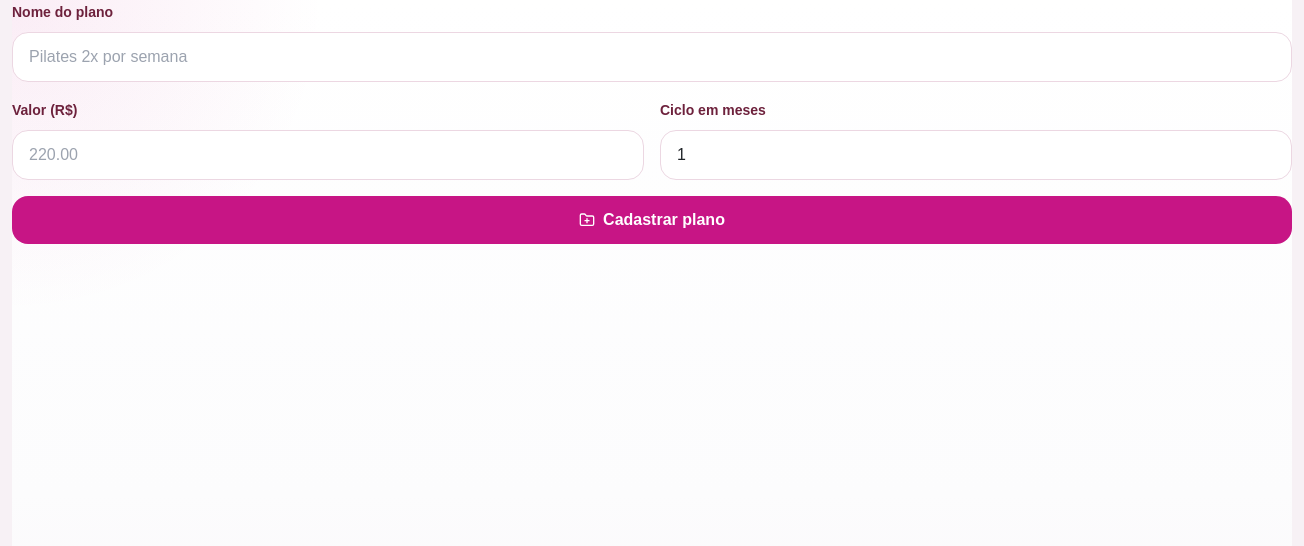
Test: CreatePlanForm › protege contra duplo clique durante submissão concorrente
Step 1. Type "Plano Prata" into the field labelled "Nome do plano" → (652, 57), box [12,32,1292,82]
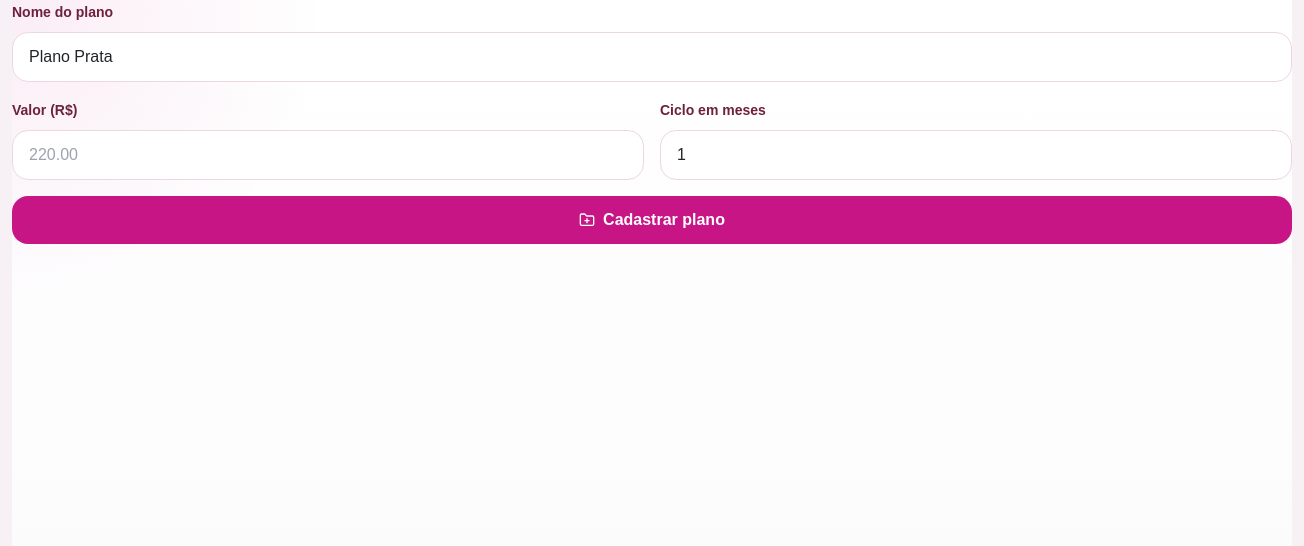
Step 2. Type "280.00" into the number field labelled "Valor (R$)" → (328, 155), box [12,130,644,180]
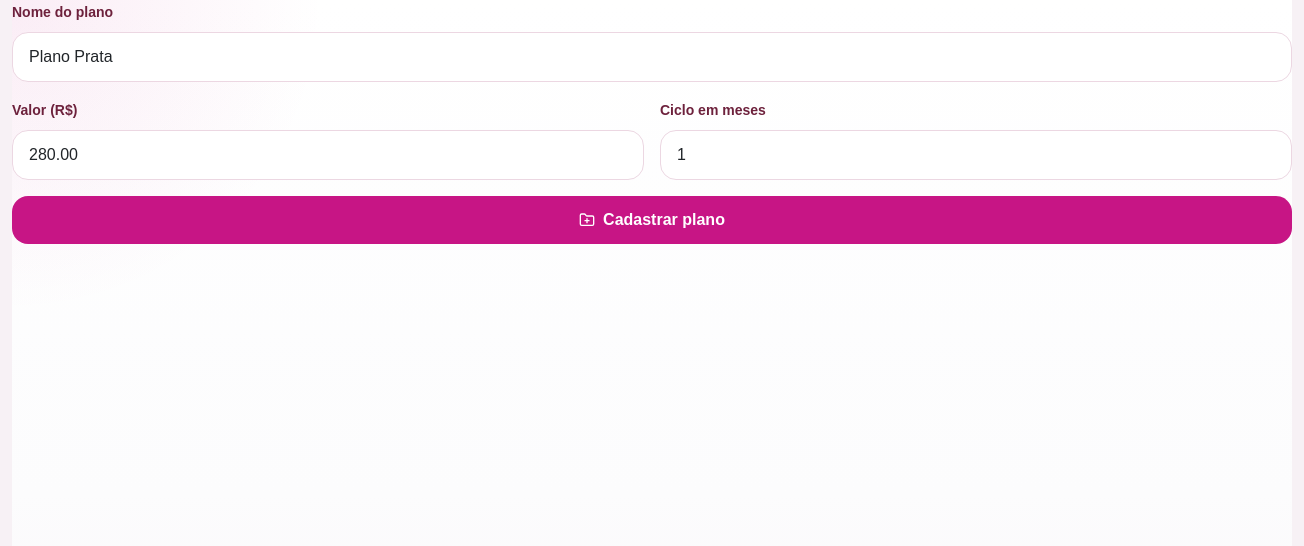
Step 3. Submit the form "Cadastrar plano", box [12,0,1292,244]
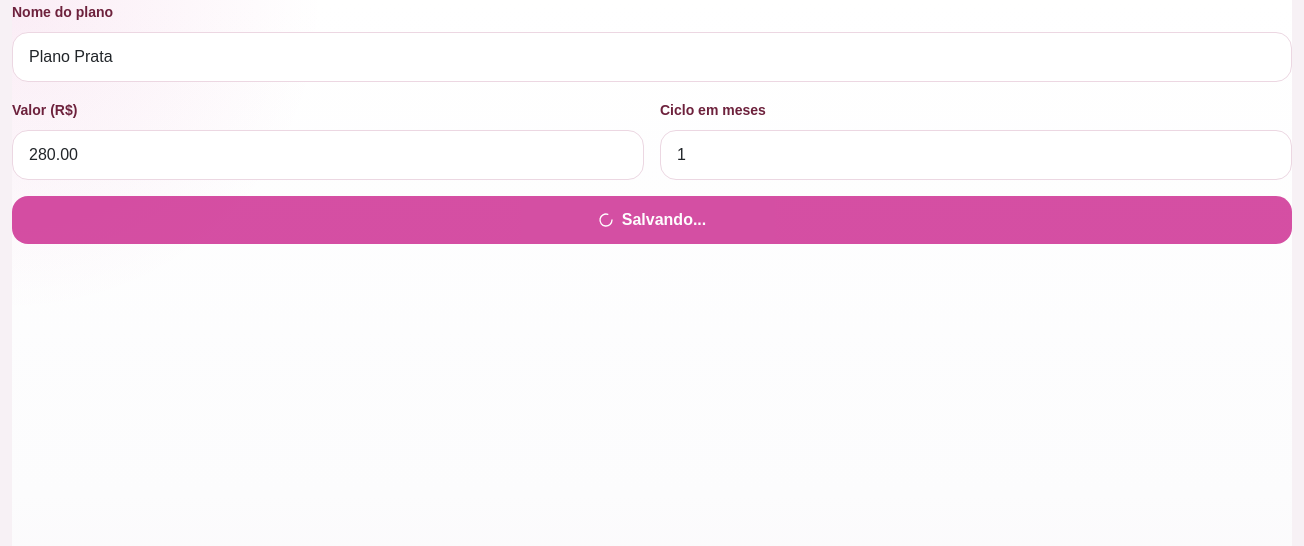
Step 4. Submit the form named "Cadastrar plano", box [12,0,1292,244]
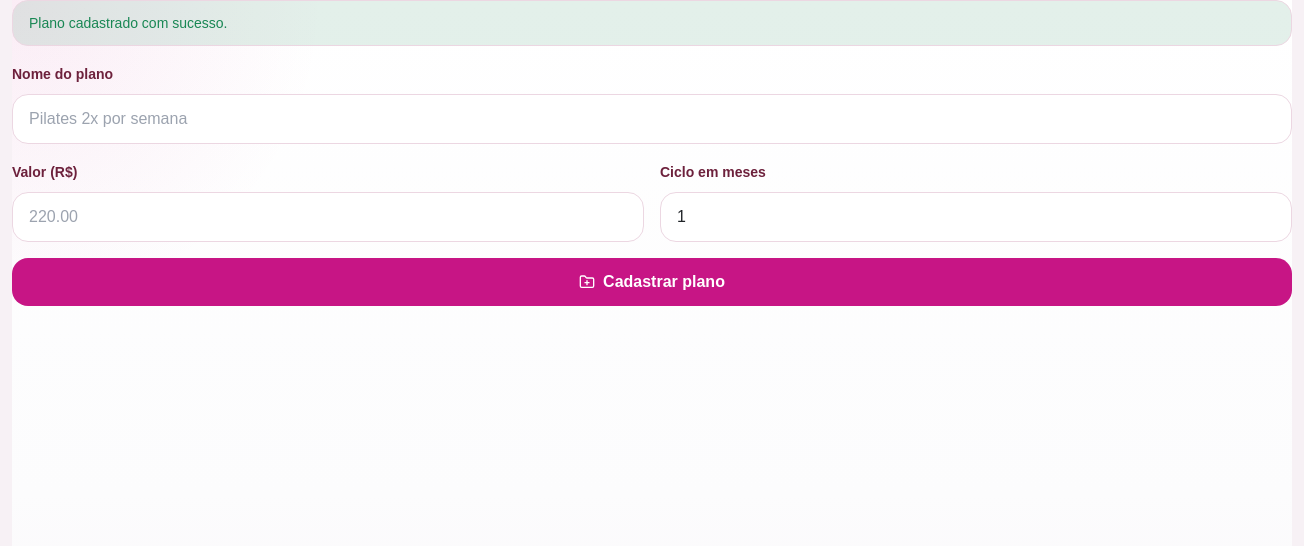
expect the message reads "Plano cadastrado com sucesso.": met, box [29,15,228,31]
